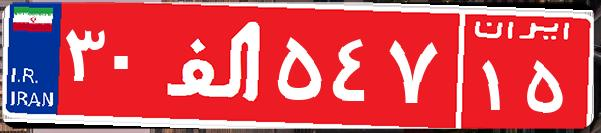0: (110, 28, 158, 105)
1: (475, 38, 525, 113)
3: (57, 26, 110, 107)
4: (330, 28, 385, 110)
5: (273, 28, 330, 110), (525, 38, 570, 115)
7: (385, 28, 445, 110)
الف: (158, 15, 273, 115)
